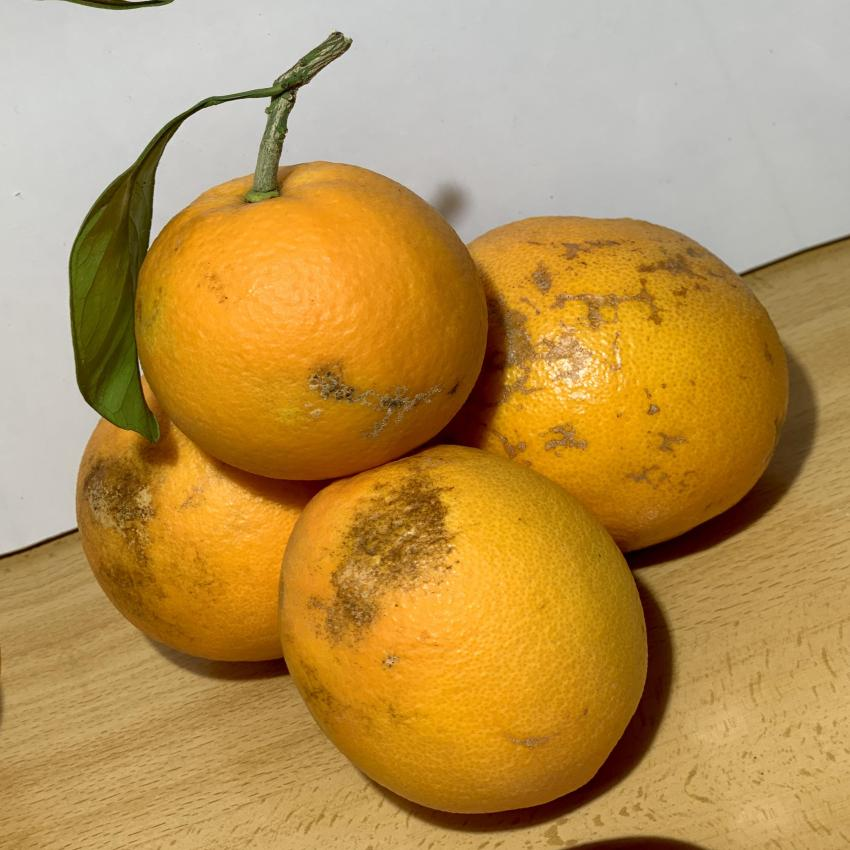Mal estado: (267, 451, 675, 804), (442, 204, 801, 568), (74, 154, 490, 463), (41, 400, 308, 672)
